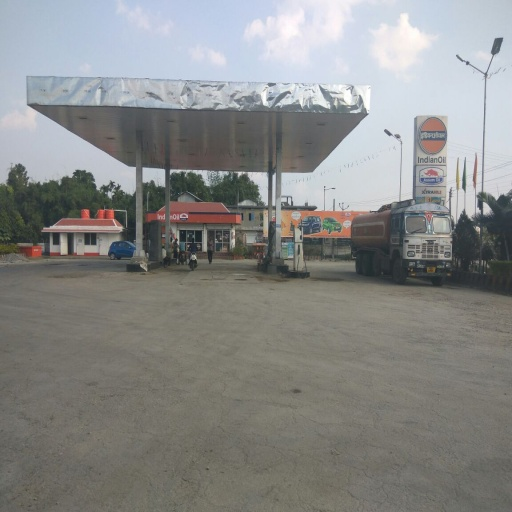roof: (25, 73, 371, 185)
